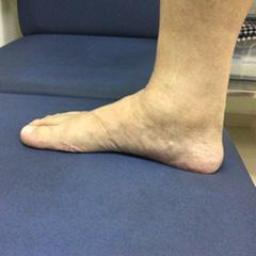Medial View -Right Foot-: (14, 48, 231, 181)
